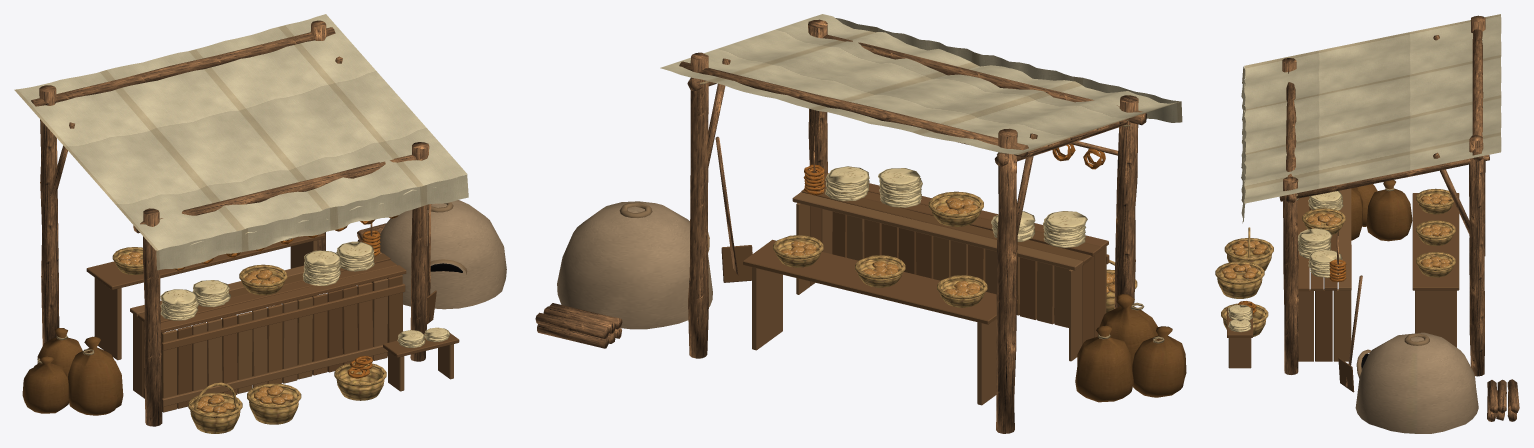
The model's file is village-kiosk-2-lite.glb.
3 views of the same model, side by side, from view 1: azimuth 30°, elevation 25°; view 2: azimuth 150°, elevation 25°; view 3: azimuth 270°, elevation 25° (orthographic). The views are drawn at different scales.
Visible parts, largest first — view 1: K2_Cloth, K2_Wood, K2_Props; view 2: K2_Wood, K2_Props, K2_Cloth; view 3: K2_Cloth, K2_Wood, K2_Props.
Part boxes in pixels (x1,y1,x2,y2): K2_Cloth: (14,14,468,270); K2_Wood: (31,20,459,426); K2_Props: (22,200,506,433); K2_Wood: (535,19,1147,433); K2_Props: (557,78,1186,402); K2_Cloth: (660,14,1182,154); K2_Cloth: (1241,14,1501,223); K2_Wood: (1227,15,1519,421); K2_Props: (1215,157,1484,433).
Size of the model in its own units: 5.65 by 2.78 by 3.26.
3 materials, 3 textured.
